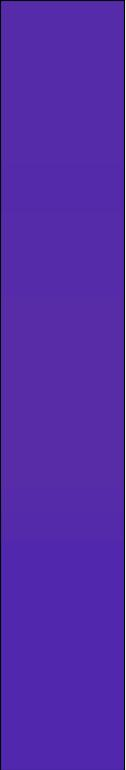safe: (8, 14, 114, 756)
